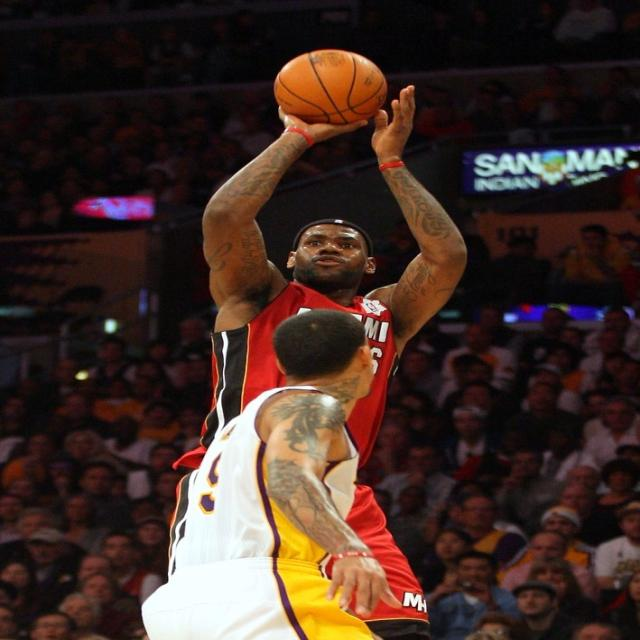basketball: (273, 49, 388, 125)
